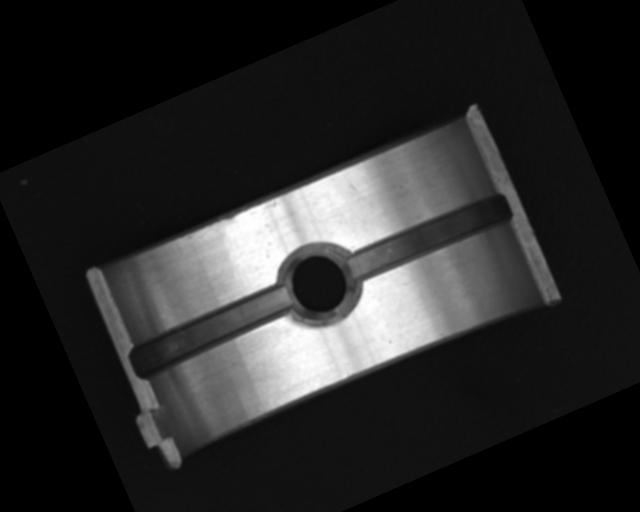gap: (338, 186, 517, 292), (124, 279, 297, 381)
hole: (269, 232, 370, 335)
